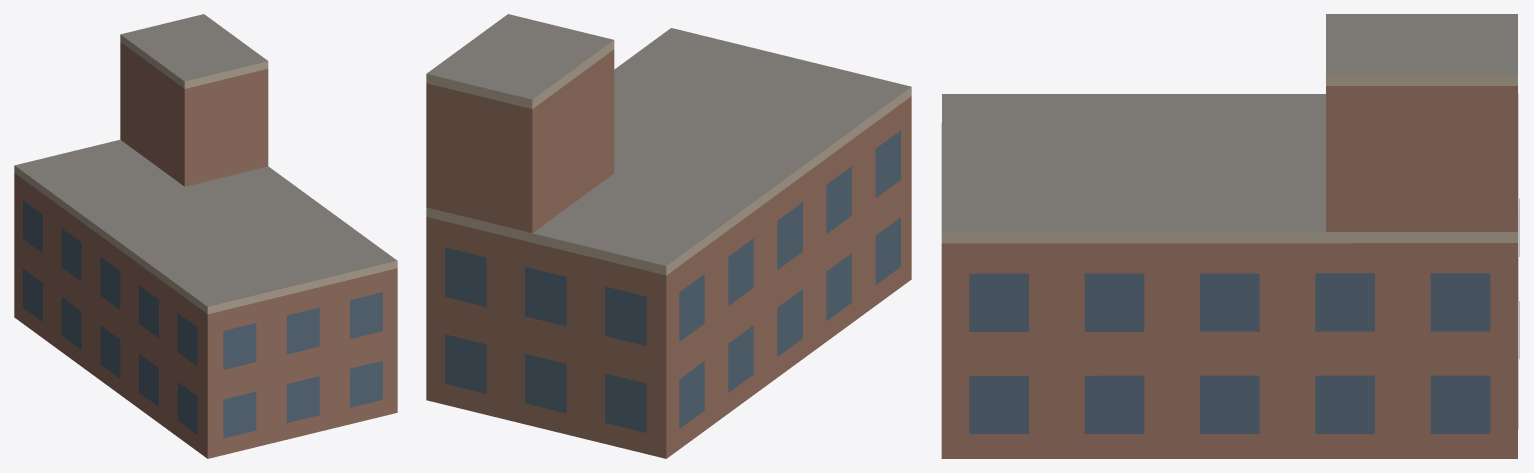
File: dc-au-rockwood-building.glb
3 renders of one model, left to right at view 1: azimuth 30°, elevation 25°; view 2: azimuth 150°, elevation 25°; view 3: azimuth 270°, elevation 25°, orthographic. The views are drawn at different scales.
Visible parts, largest first — view 1: Rockwood Building; view 2: Rockwood Building; view 3: Rockwood Building.
Part boxes in pixels (x1,y1,x2,y2): Rockwood Building: (14,14,397,458); Rockwood Building: (426,14,911,458); Rockwood Building: (941,14,1519,458).
Bounding box in the file's own units: 8.56 × 11 × 15.06.
